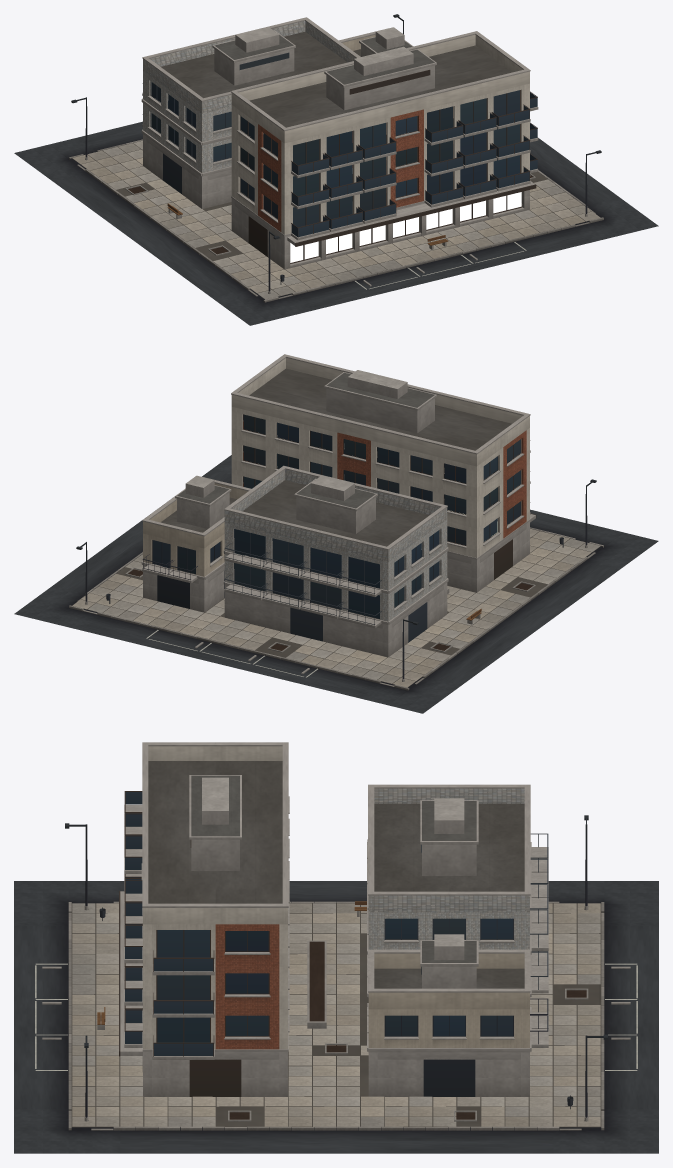
File: modulo_F_lod0.glb
3 renders of one model, top to bottom at view 1: azimuth 30°, elevation 25°; view 2: azimuth 150°, elevation 25°; view 3: azimuth 270°, elevation 25°, orthographic. The views are drawn at different scales.
Parts seen in each view (by area): view 1: modulo_F_lod0_tex, modulo_F_lod0_solid; view 2: modulo_F_lod0_tex, modulo_F_lod0_solid; view 3: modulo_F_lod0_tex, modulo_F_lod0_solid.
Boxes of the visible parts, x1,y1,x2,y2 form: modulo_F_lod0_tex: [14, 17, 658, 325]; modulo_F_lod0_solid: [71, 14, 601, 291]; modulo_F_lod0_tex: [14, 354, 658, 713]; modulo_F_lod0_solid: [76, 414, 596, 678]; modulo_F_lod0_tex: [14, 742, 658, 1153]; modulo_F_lod0_solid: [65, 791, 607, 1117].
Size of the model in its own units: 40 by 15.41 by 40.
11 materials, 7 textured.
